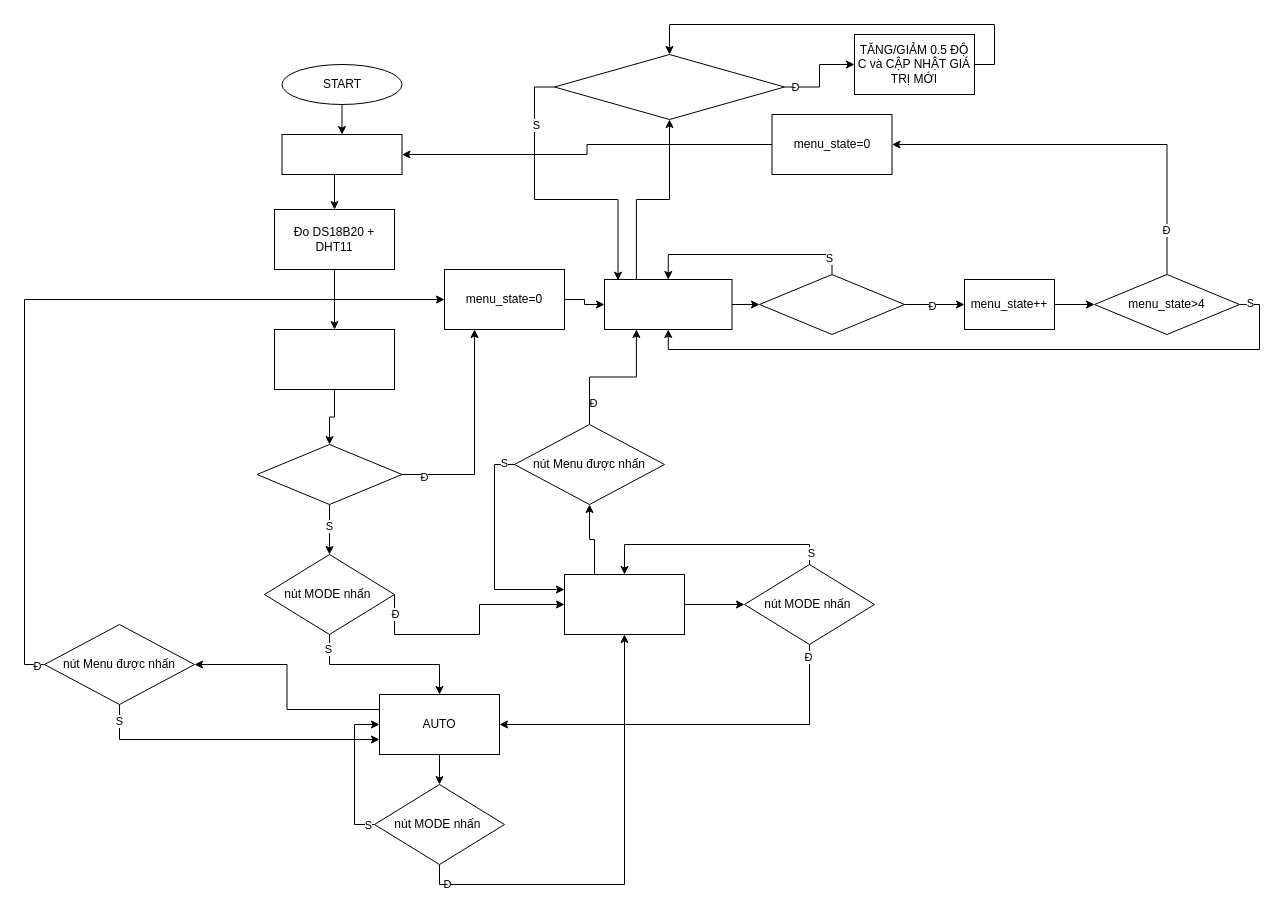
The diagram is 1285 pixels wide and 910 high, and some of its shapes have lost their labels. Each missing label, with the centre of its shape:
"Hiển thị LCD: Temp, Humi" goes at (334,359).
"Khởi tạo LCD+GPIO" goes at (341,154).
"kiểm tra nút UP/DOWN CÓ NHẤN?" goes at (669,87).
"MANUAL" goes at (624,604).
"nút Menu nhấn" goes at (831,304).
"nút Menu đc nhấn" goes at (329,474).
"Vào Menu và LCD hiển thị trạng thái tại menu_state" goes at (668,304).
